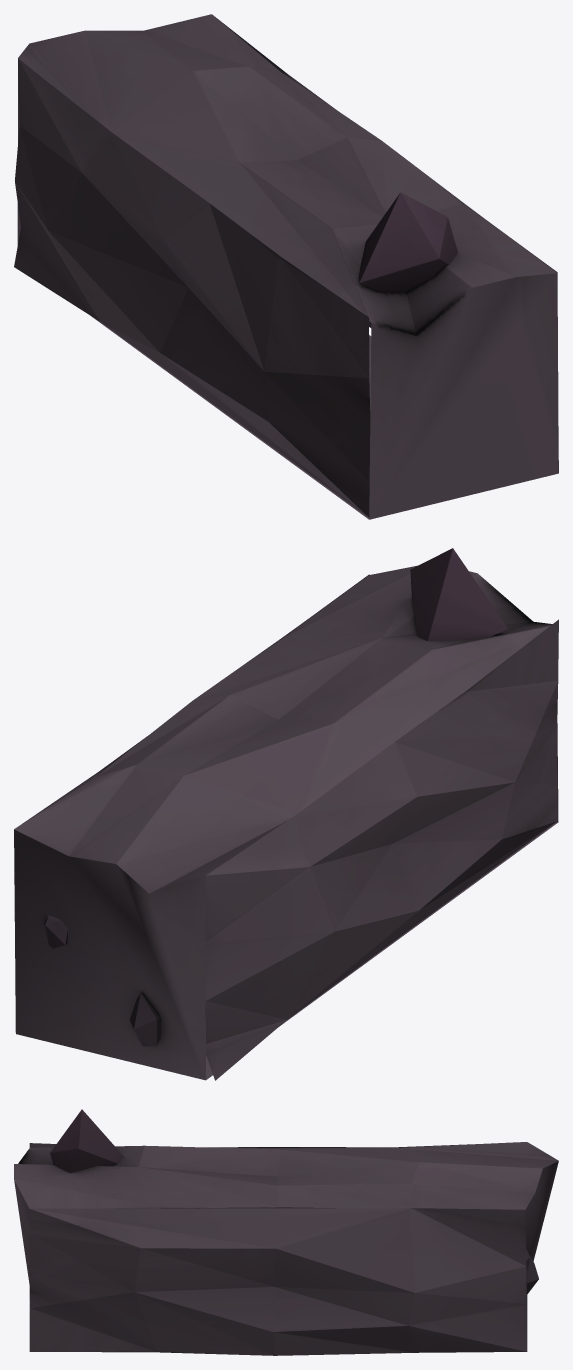
The model's file is ground1.FBX.
The picture shows the model from 3 angles, top to bottom: view 1: azimuth 30°, elevation 25°; view 2: azimuth 150°, elevation 25°; view 3: azimuth 270°, elevation 25°; orthographic projection. The views are drawn at different scales.
Parts seen in each view (by area): view 1: ground1; view 2: ground1; view 3: ground1.
Boxes of the visible parts, left/top/right/bottom form: ground1: left=14, top=14, right=558, bottom=519; ground1: left=14, top=548, right=558, bottom=1080; ground1: left=14, top=1109, right=558, bottom=1355.
Bounding box in the file's own units: 43.56 × 43.27 × 106.
